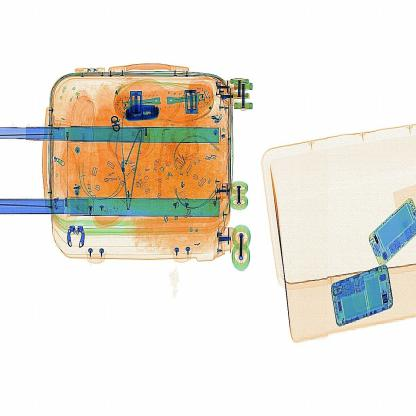scissors: (121, 97, 162, 127)
